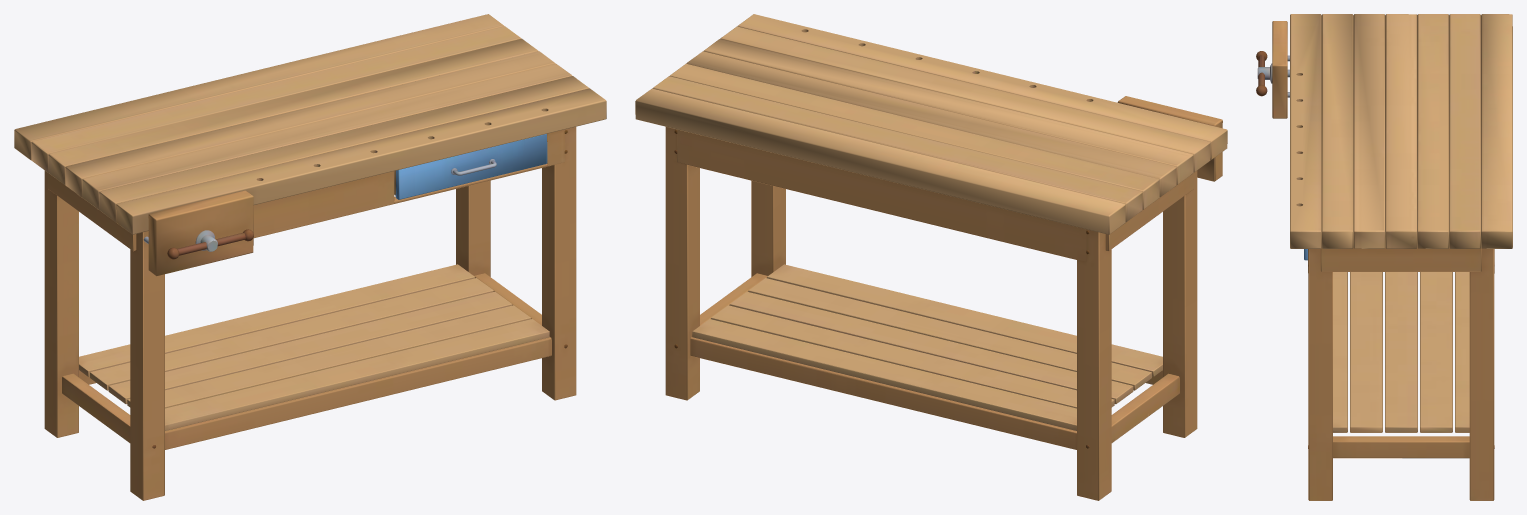
Rendered from workbench.glb.
3 renders of one model, left to right at view 1: azimuth 30°, elevation 25°; view 2: azimuth 150°, elevation 25°; view 3: azimuth 270°, elevation 25°, orthographic. The views are drawn at different scales.
Visible parts, largest first — view 1: workbench_body, workbench_drawer; view 2: workbench_body; view 3: workbench_body.
Boxes of the visible parts, box(x1,y1,x2,y2) form: workbench_body: box(14, 14, 606, 500); workbench_drawer: box(394, 134, 547, 199); workbench_body: box(635, 14, 1227, 500); workbench_body: box(1256, 14, 1512, 500).
Size of the model in its own units: 1.5 by 0.9001 by 0.7484.
2 materials, 2 textured.
